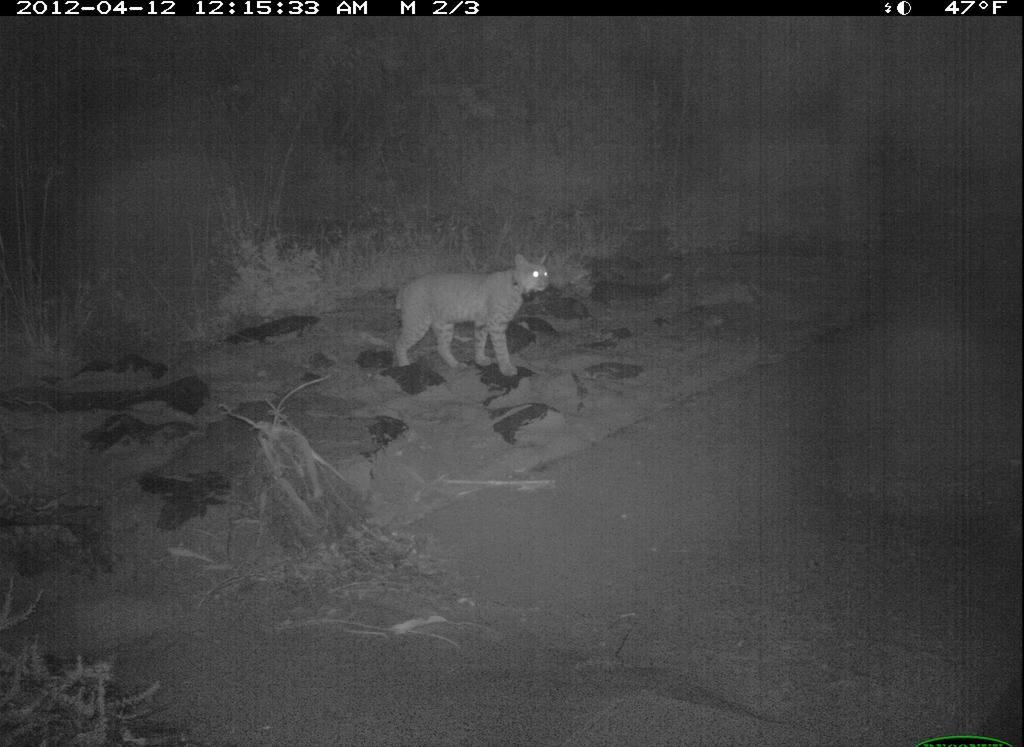bobcat: (381, 254, 557, 385)
